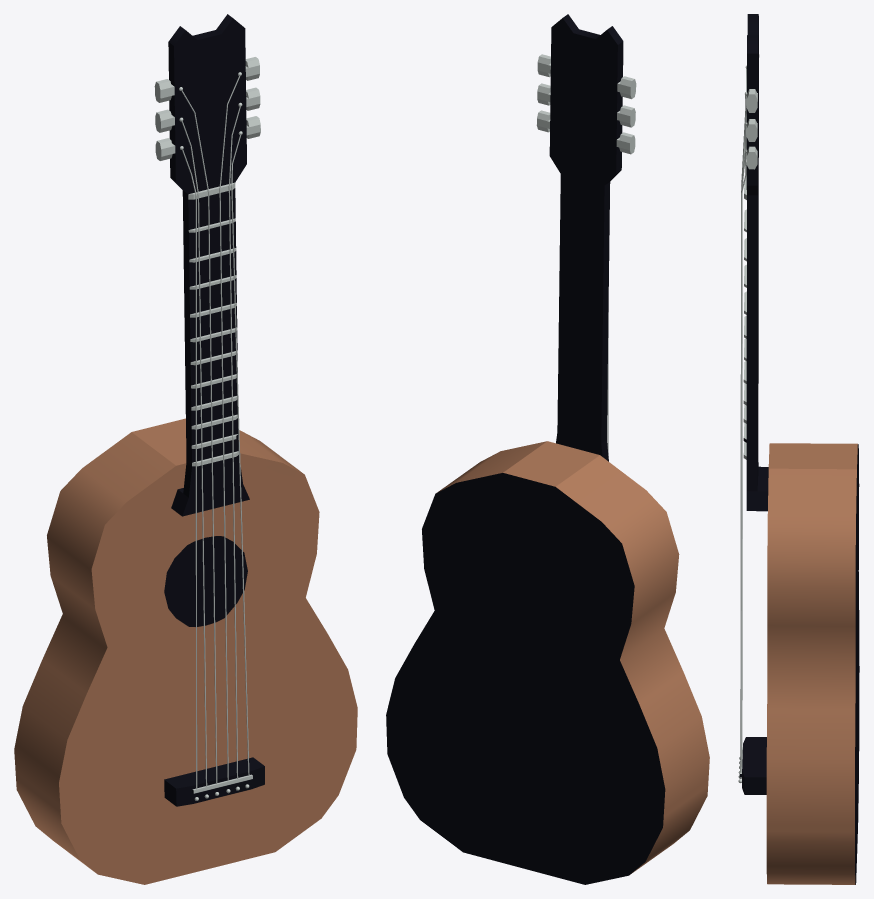
File: F_Guitar.fbx
The picture shows the model from 3 angles, left to right: view 1: azimuth 30°, elevation 25°; view 2: azimuth 150°, elevation 25°; view 3: azimuth 270°, elevation 25°; orthographic projection. The views are drawn at different scales.
Visible parts, largest first — view 1: Guitar; view 2: Guitar; view 3: Guitar.
Boxes of the visible parts, x1,y1,x2,y2 form: Guitar: [14, 14, 357, 884]; Guitar: [386, 14, 709, 884]; Guitar: [738, 14, 859, 884].
Size of the model in its own units: 45.87 by 126 by 16.76.
